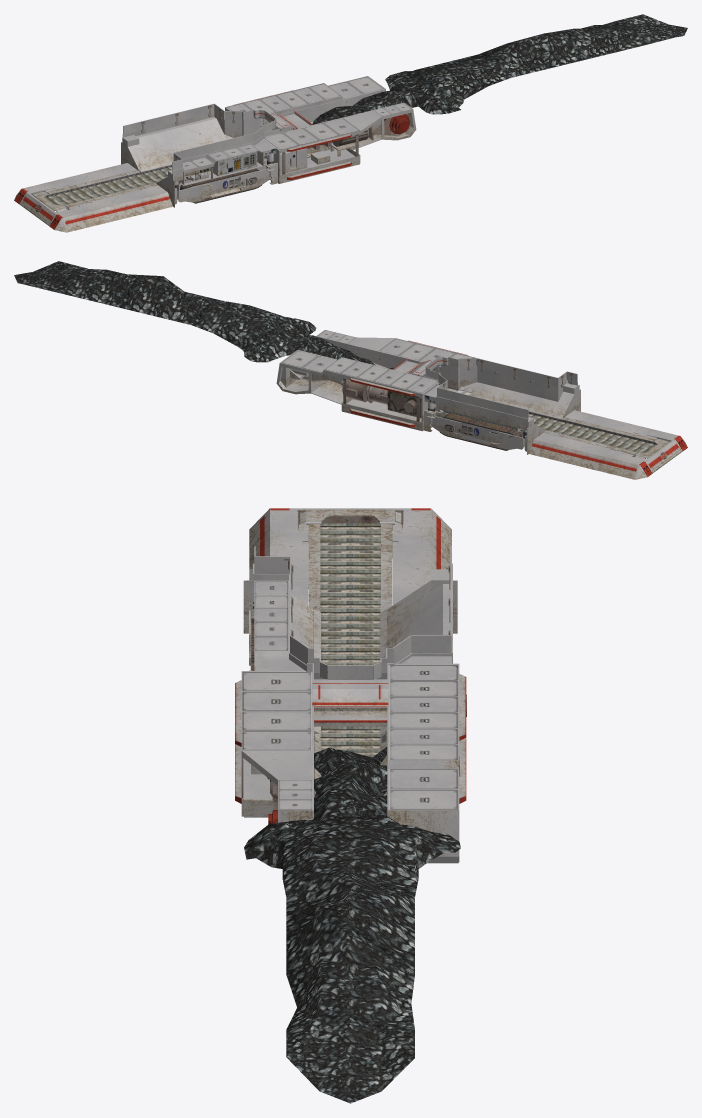
File: feederBreaker.FBX
The picture shows the model from 3 angles, top to bottom: view 1: azimuth 30°, elevation 25°; view 2: azimuth 150°, elevation 25°; view 3: azimuth 270°, elevation 25°; orthographic projection. The views are drawn at different scales.
Parts seen in each view (by area): view 1: Mine_Feeder_Braker_BF14_Mesh, Feeder_Braker_CoalSpill; view 2: Mine_Feeder_Braker_BF14_Mesh, Feeder_Braker_CoalSpill; view 3: Mine_Feeder_Braker_BF14_Mesh, Feeder_Braker_CoalSpill.
Part boxes in pixels (left/top/right/bottom): Mine_Feeder_Braker_BF14_Mesh: left=14, top=76, right=416, bottom=232; Feeder_Braker_CoalSpill: left=293, top=14, right=687, bottom=129; Mine_Feeder_Braker_BF14_Mesh: left=276, top=330, right=687, bottom=479; Feeder_Braker_CoalSpill: left=14, top=261, right=393, bottom=369; Mine_Feeder_Braker_BF14_Mesh: left=235, top=508, right=466, bottom=863; Feeder_Braker_CoalSpill: left=244, top=746, right=460, bottom=1103.
Size of the model in its own units: 1964 by 177 by 302.
